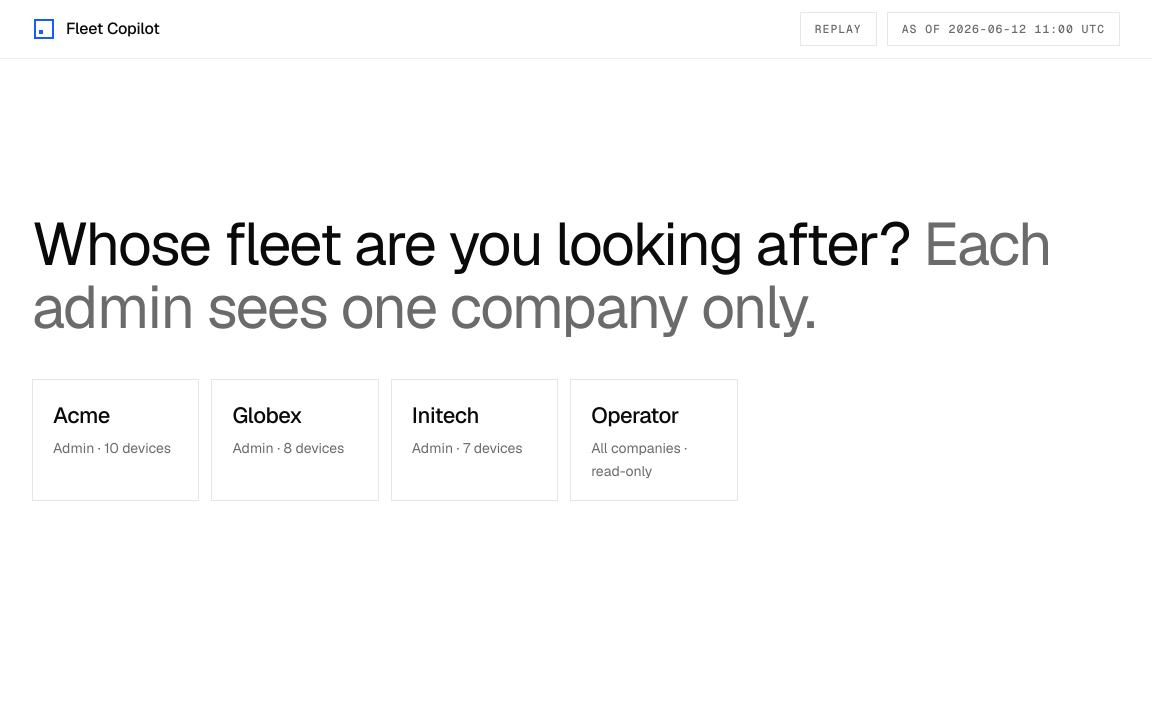
Test: the working thread › refuses another company's device in the same words as any unknown device
This screenshot has width=1152, height=720.
Click the button "Acme Admin · 10 devices". click: click(116, 440)
box: [32,379,199,501]
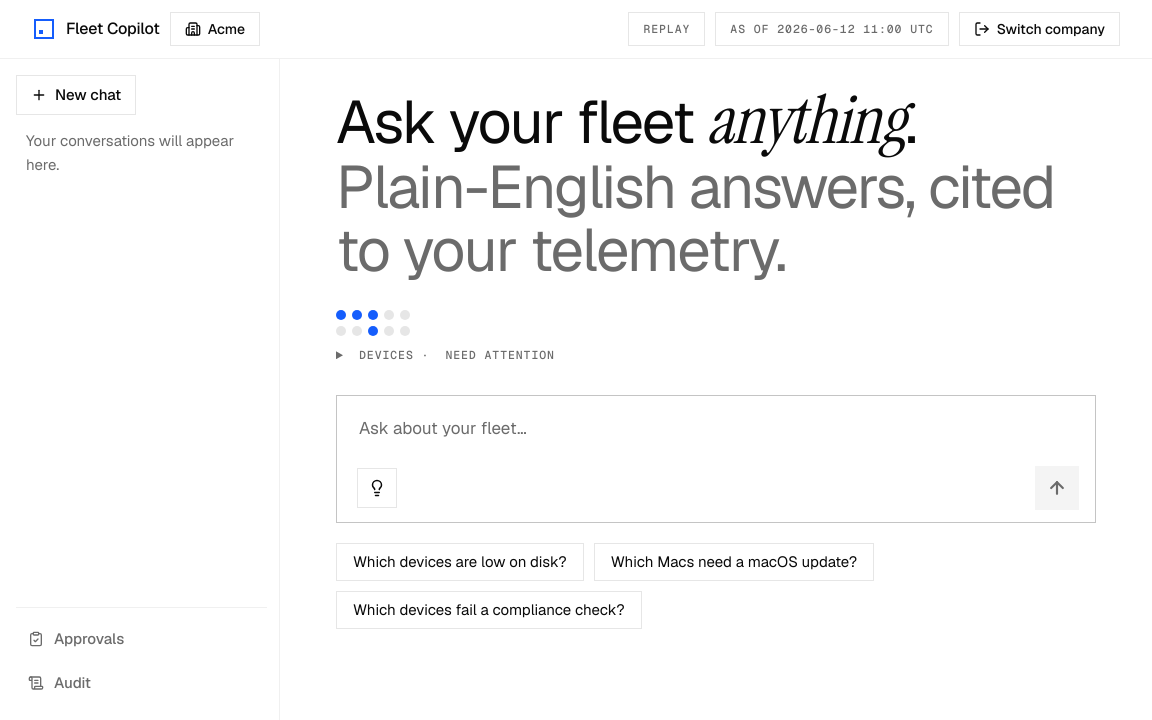
Type "Show the disk history for device 4SEFDLPTKXAM" into the text box named "ask a question about your fleet". click: (718, 440)
box: [357,414,1079,466]
Then press Enter
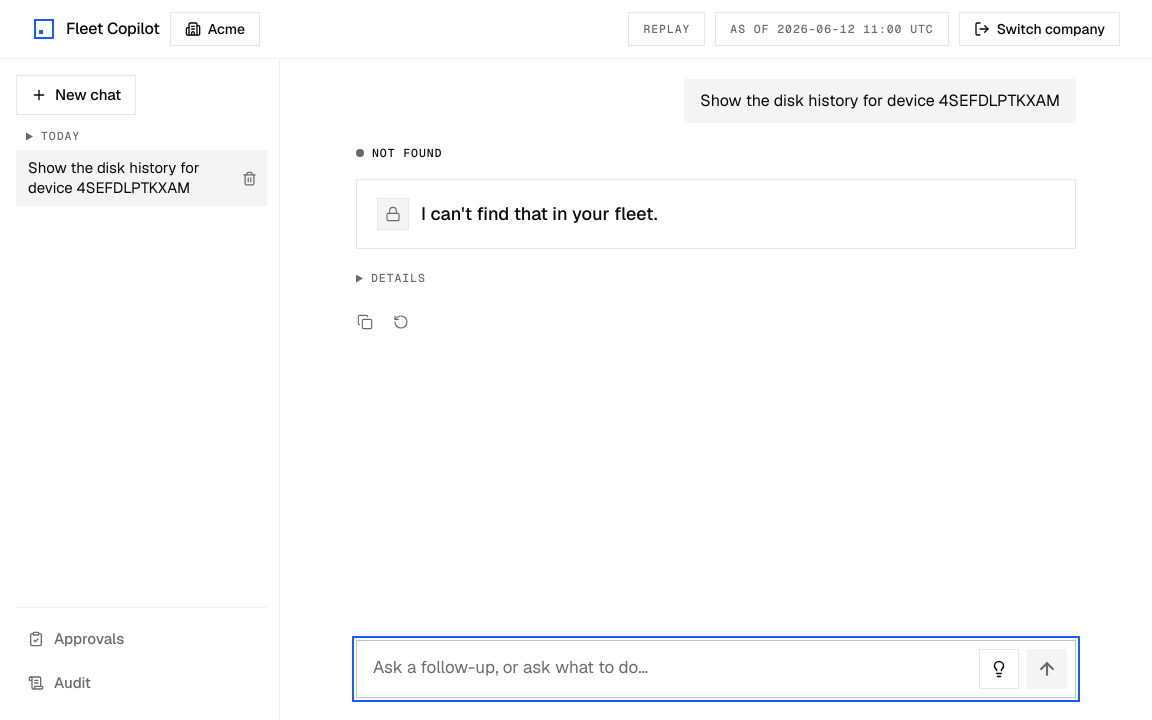
Expected: the button "Globex" is not shown
Expected: the text "Not found" is shown, [372,146,442,160]
